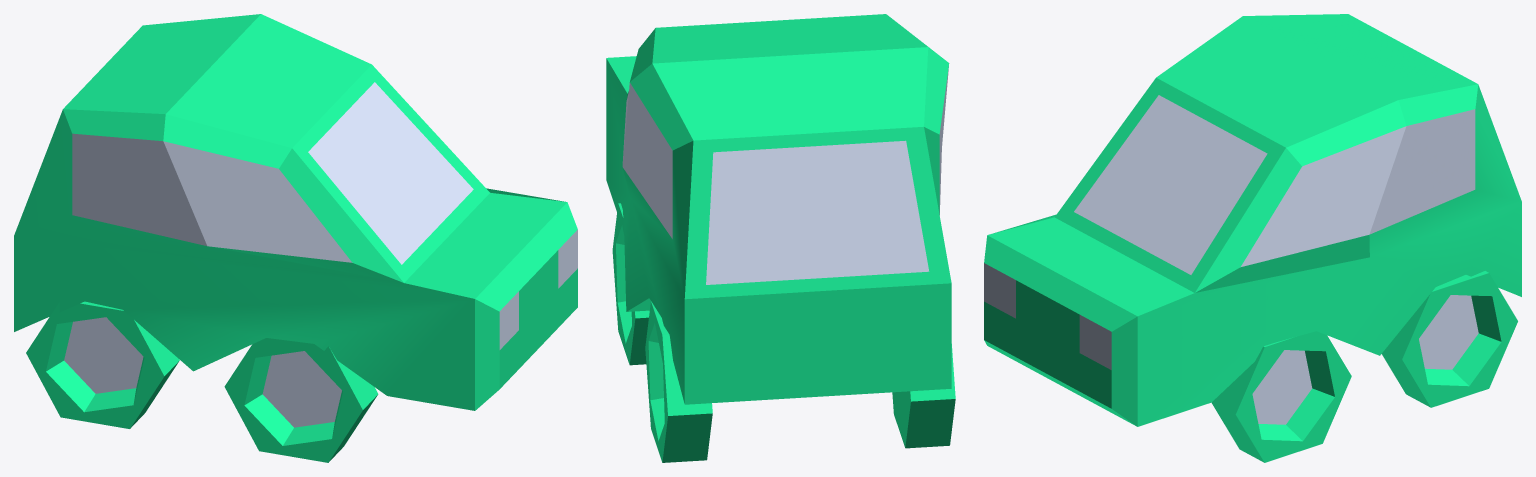
File: Car.fbx
3 renders of one model, left to right at view 1: azimuth 30°, elevation 25°; view 2: azimuth 150°, elevation 25°; view 3: azimuth 270°, elevation 25°, orthographic. The views are drawn at different scales.
Visible parts, largest first — view 1: Car; view 2: Car; view 3: Car.
Part boxes in pixels (x1,y1,x2,y2): Car: (14,14,577,462); Car: (606,14,955,462); Car: (984,14,1521,462).
Bounding box in the file's own units: 251 × 176 × 272.
